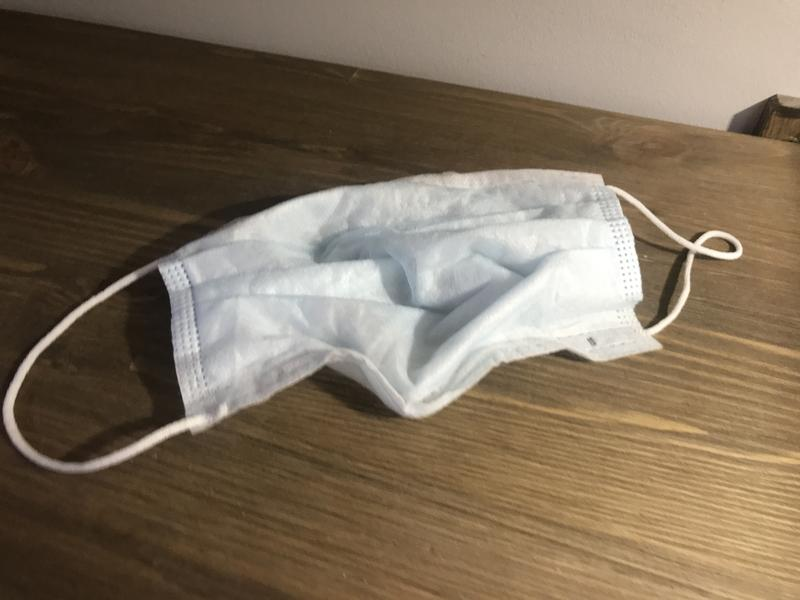medical_mask: (3, 168, 743, 465)
